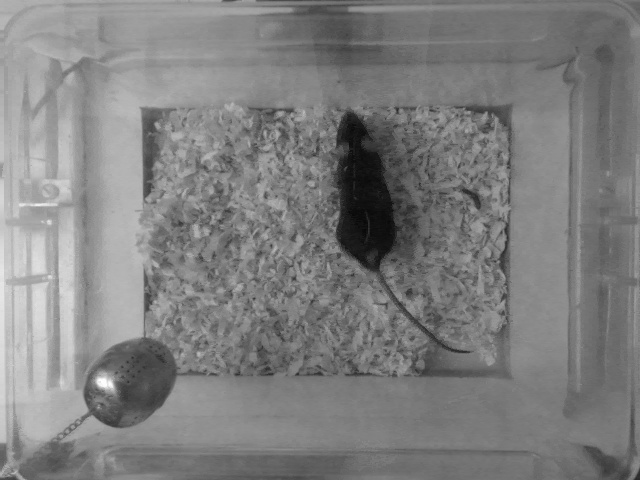mice: (332, 105, 476, 355)
